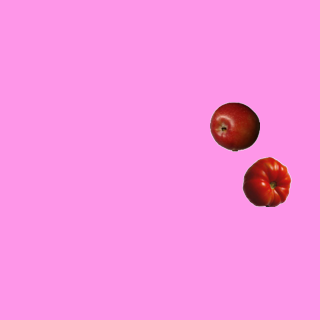Apple Braeburn: (209, 101, 259, 151)
Tomato 3: (241, 156, 291, 206)
